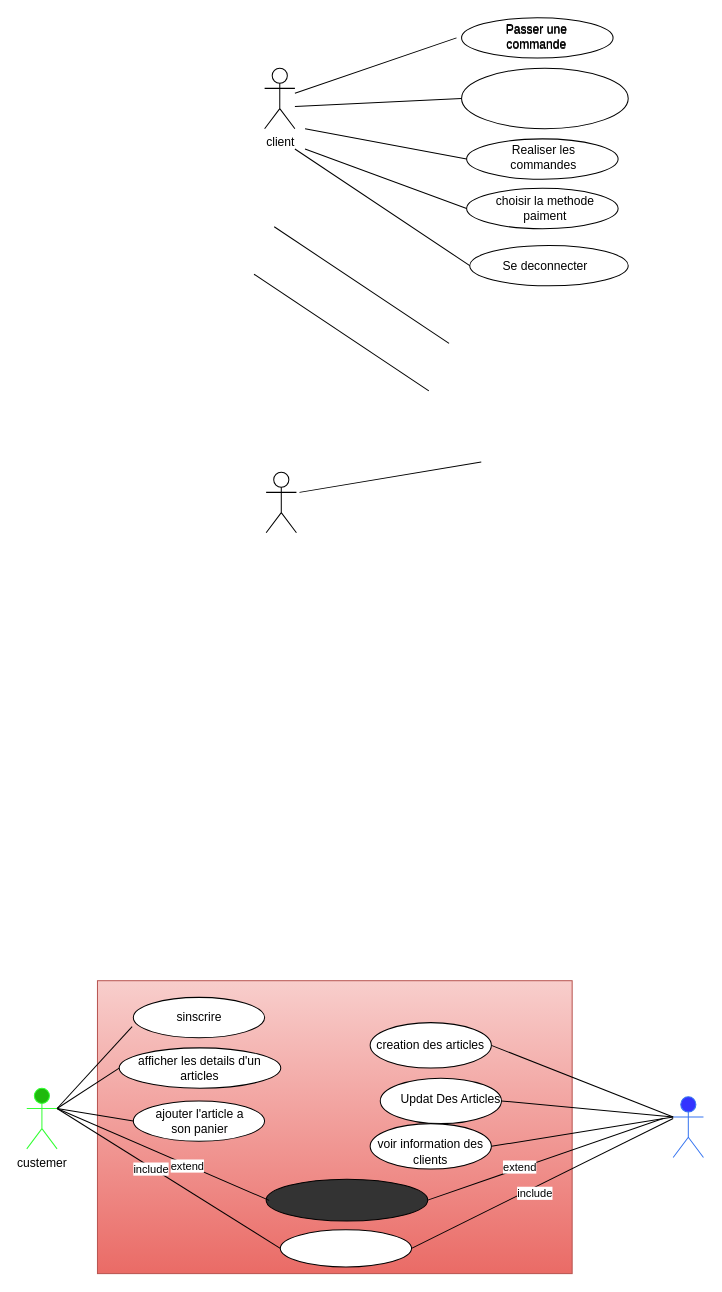
Image size: 722x1292. Some labels were removed from this diagram. The centre of each missing label's shape, as x and y in pixels:
admin: the point at 687,1126
admine: the point at 280,502
Afficher les commande en cours: the point at 544,98
ajouter meesage: the point at 346,1199
login: the point at 345,1248
